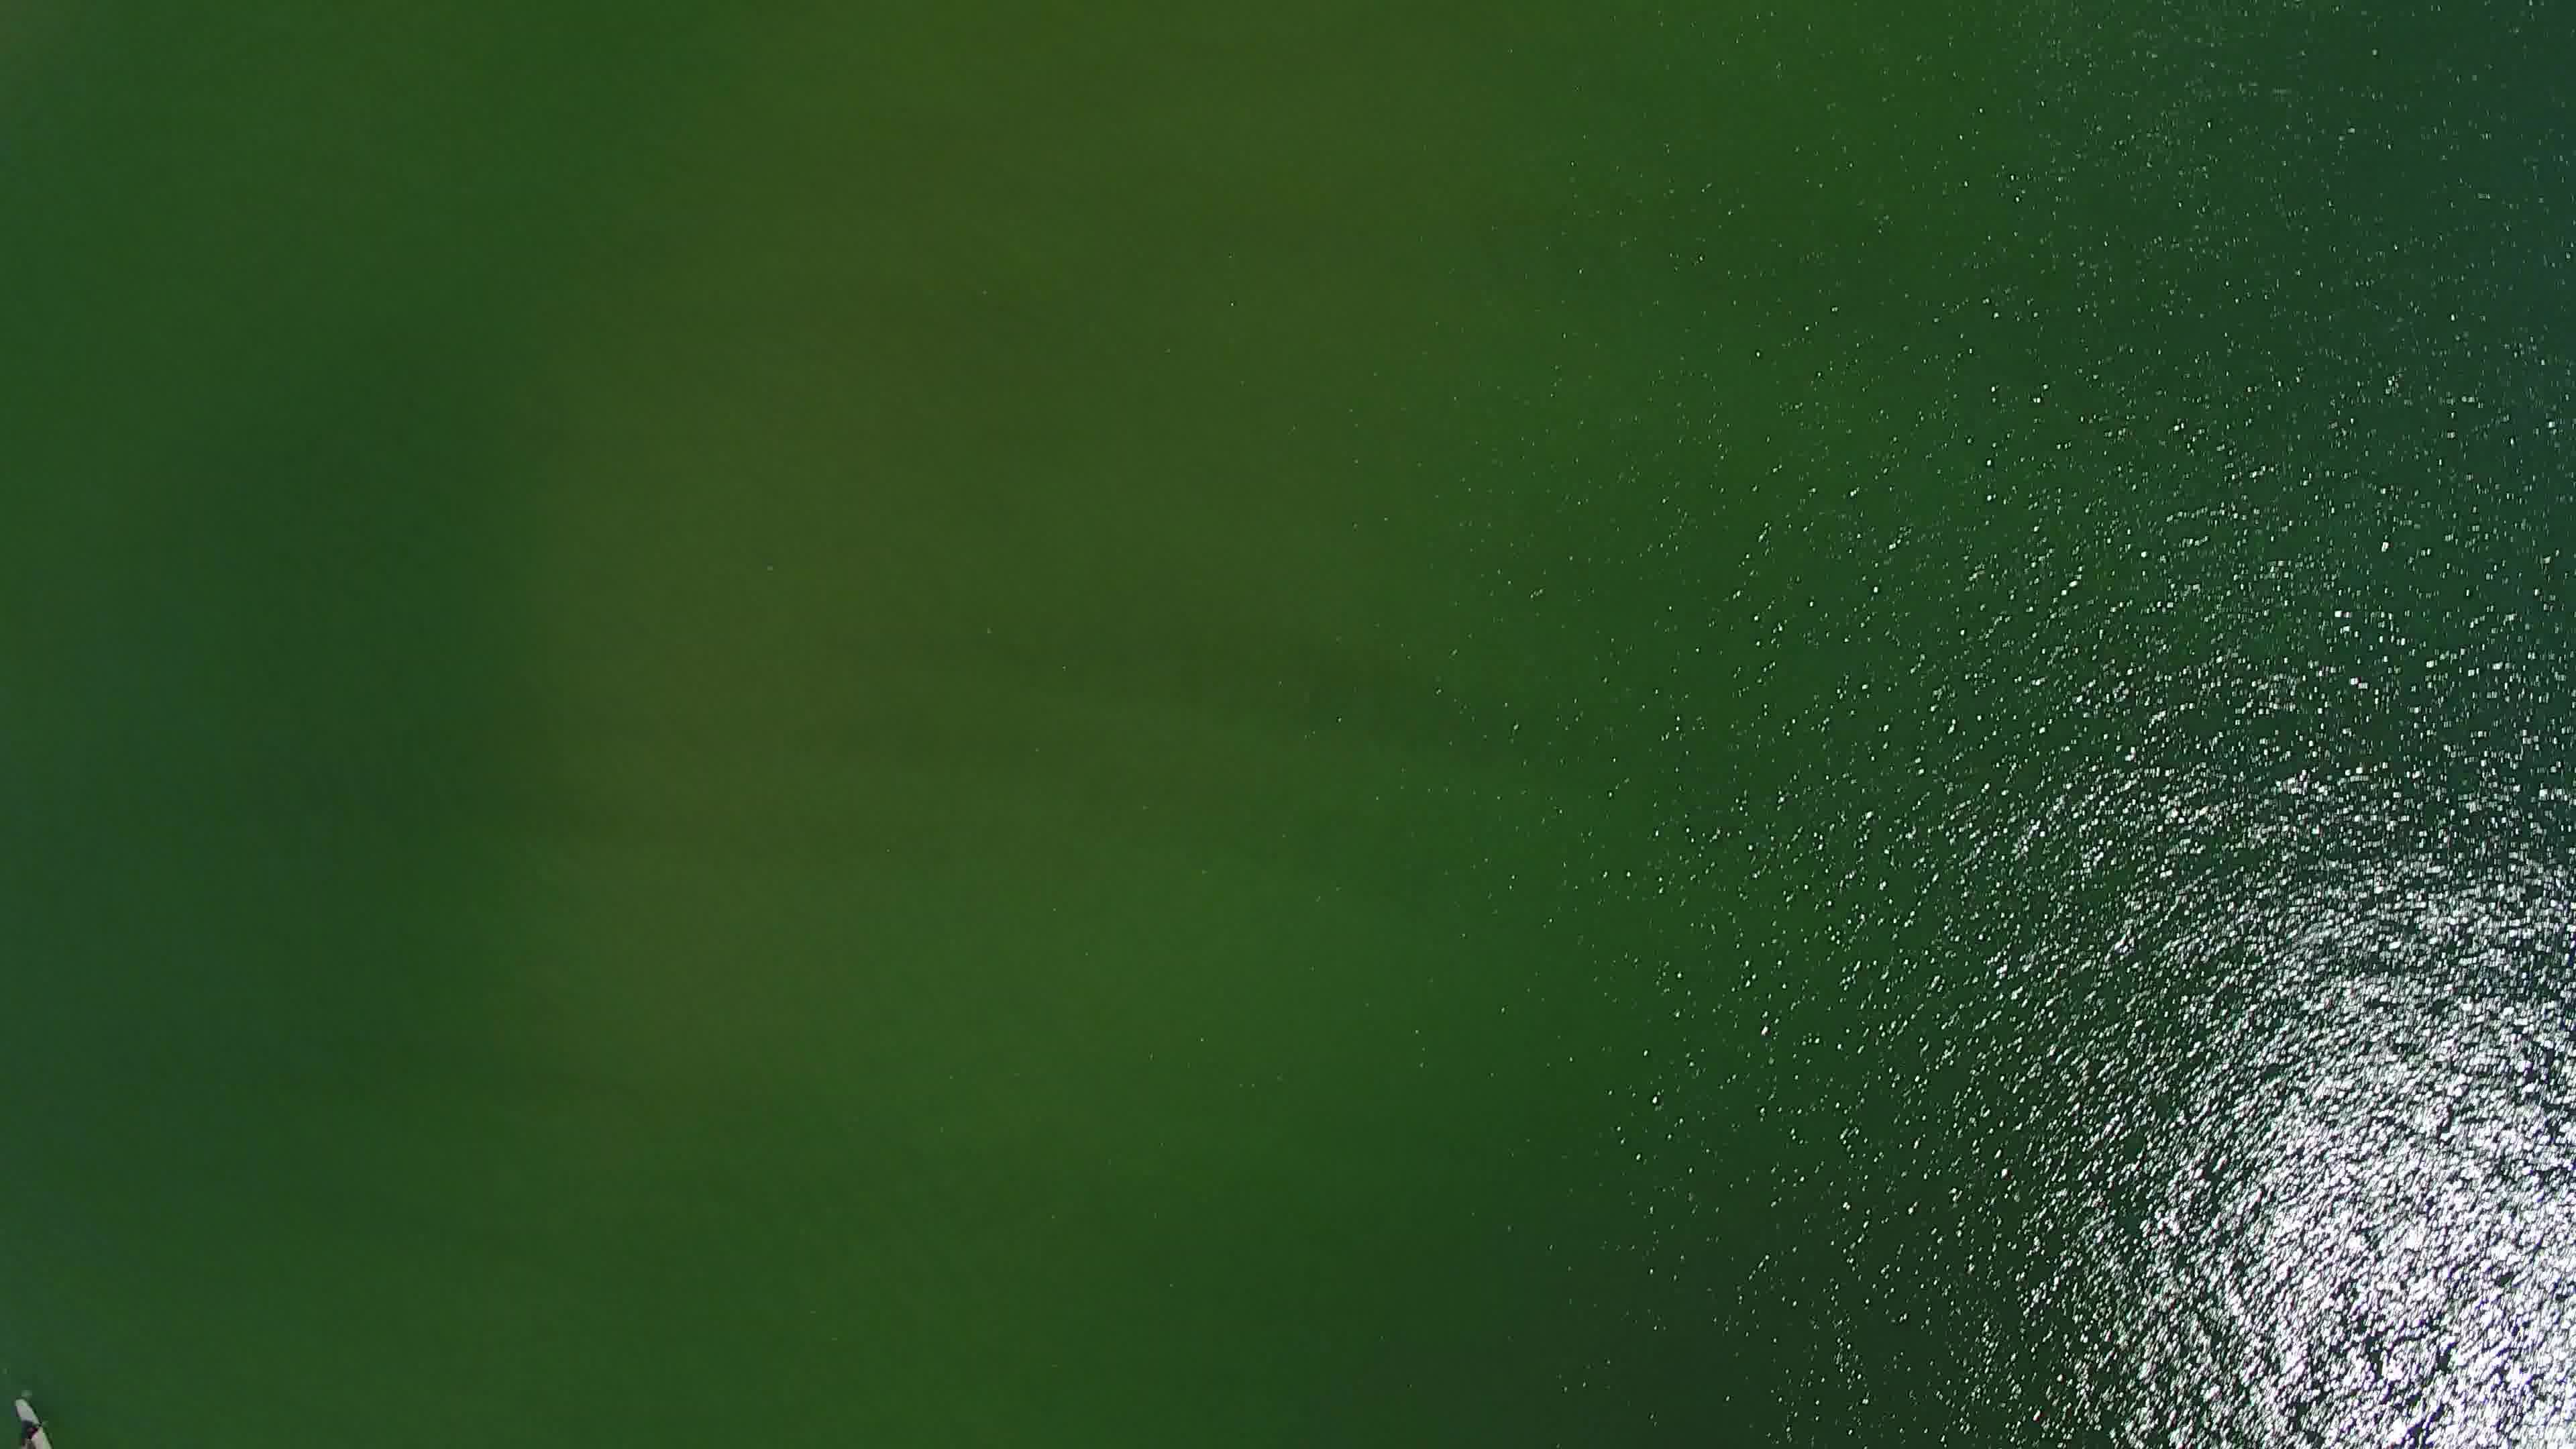surfer: (9, 1391, 64, 1449)
